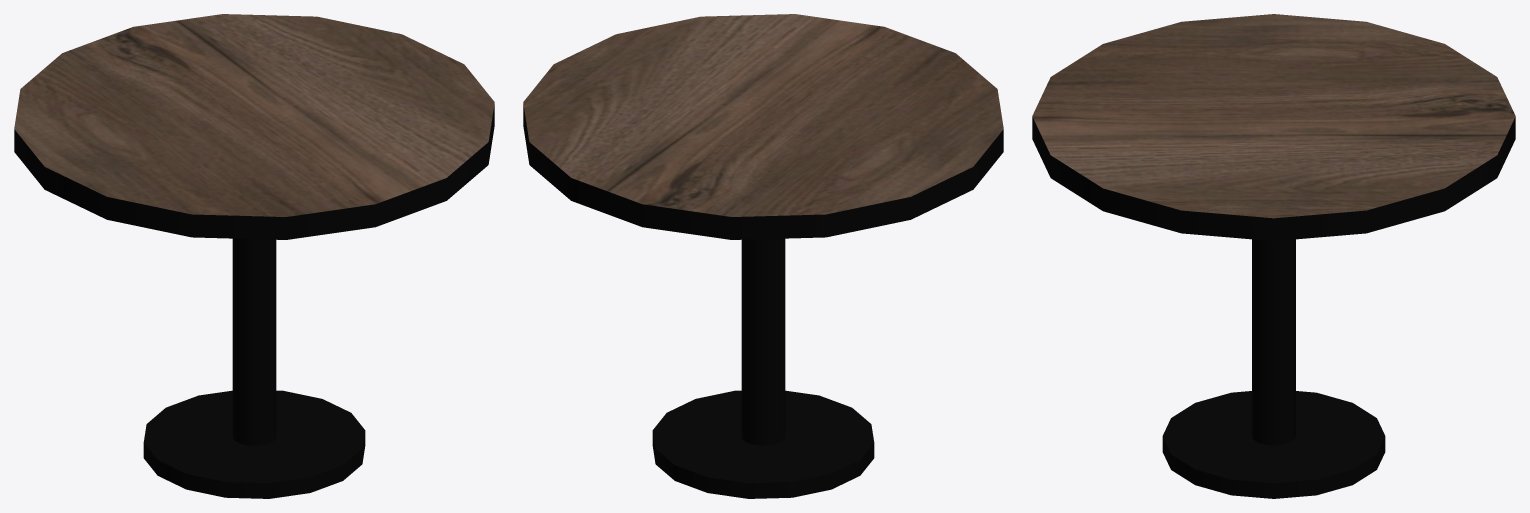
The model's file is cafetable_small.fbx.
The picture shows the model from 3 angles, left to right: view 1: azimuth 30°, elevation 25°; view 2: azimuth 150°, elevation 25°; view 3: azimuth 270°, elevation 25°; orthographic projection.
Parts seen in each view (by area): view 1: pCylinder1; view 2: pCylinder1; view 3: pCylinder1.
Boxes of the visible parts, left/top/right/bottom form: pCylinder1: left=14, top=14, right=494, bottom=498; pCylinder1: left=523, top=14, right=1003, bottom=498; pCylinder1: left=1032, top=14, right=1515, bottom=498.
Bounding box in the file's own units: 0.00816 × 0.00625 × 0.00816.
Materials: 1 (1 with a texture image).
